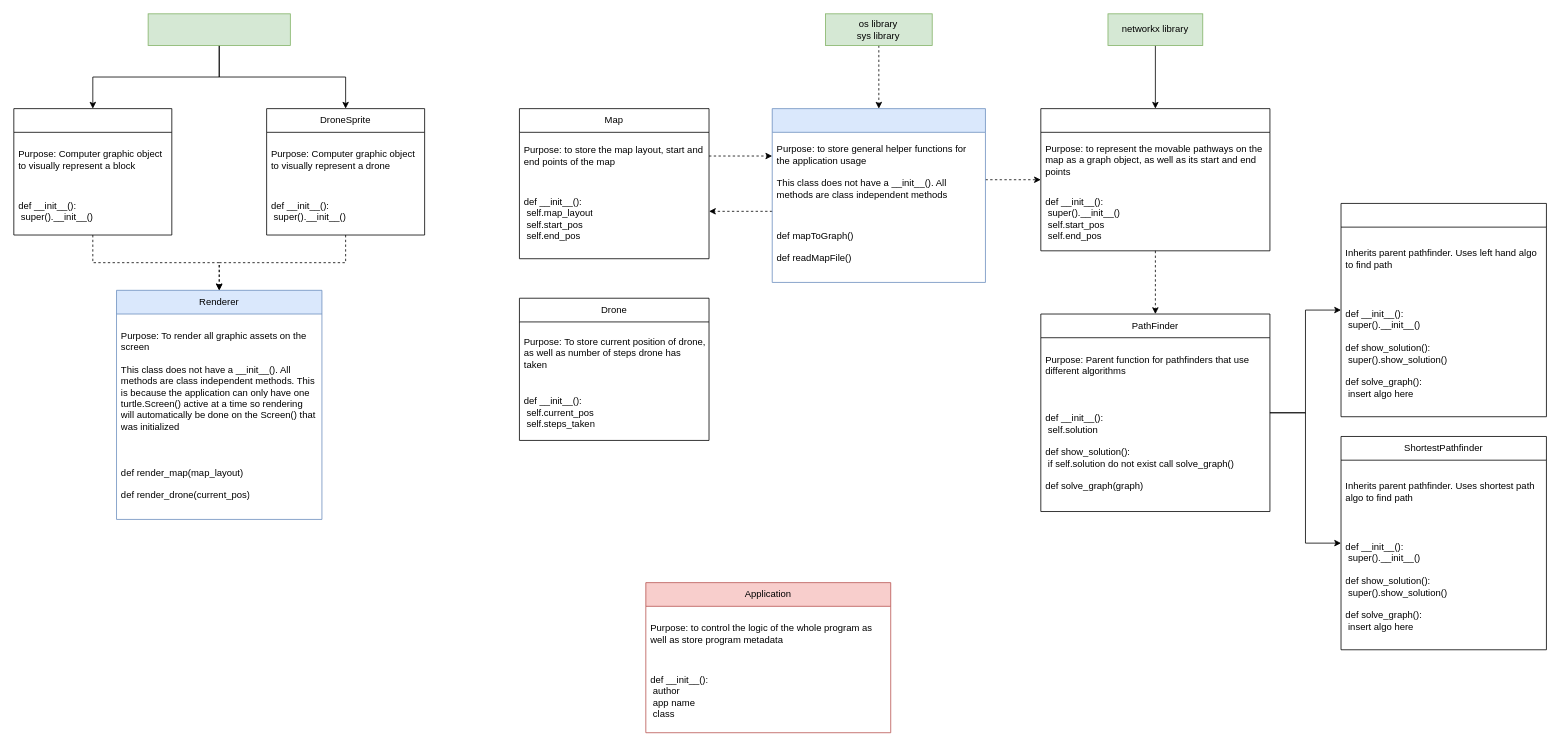
Image size: 1560x747. Some labels were removed from this diagram. Each missing label, with the box of its shape:
BlockSprite: (13, 108, 172, 235)
LeftHandPathfinder: (1340, 203, 1546, 417)
MapGraph (inherit nx.Graph): (1040, 108, 1270, 251)
turtle library: (147, 13, 290, 45)
Utils: (771, 108, 985, 282)
